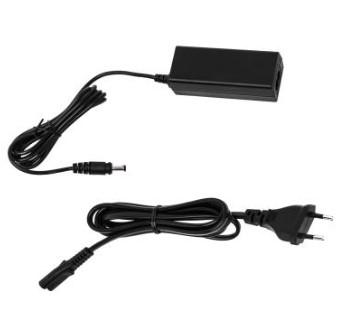cable: (8, 46, 284, 175), (40, 198, 324, 290)
